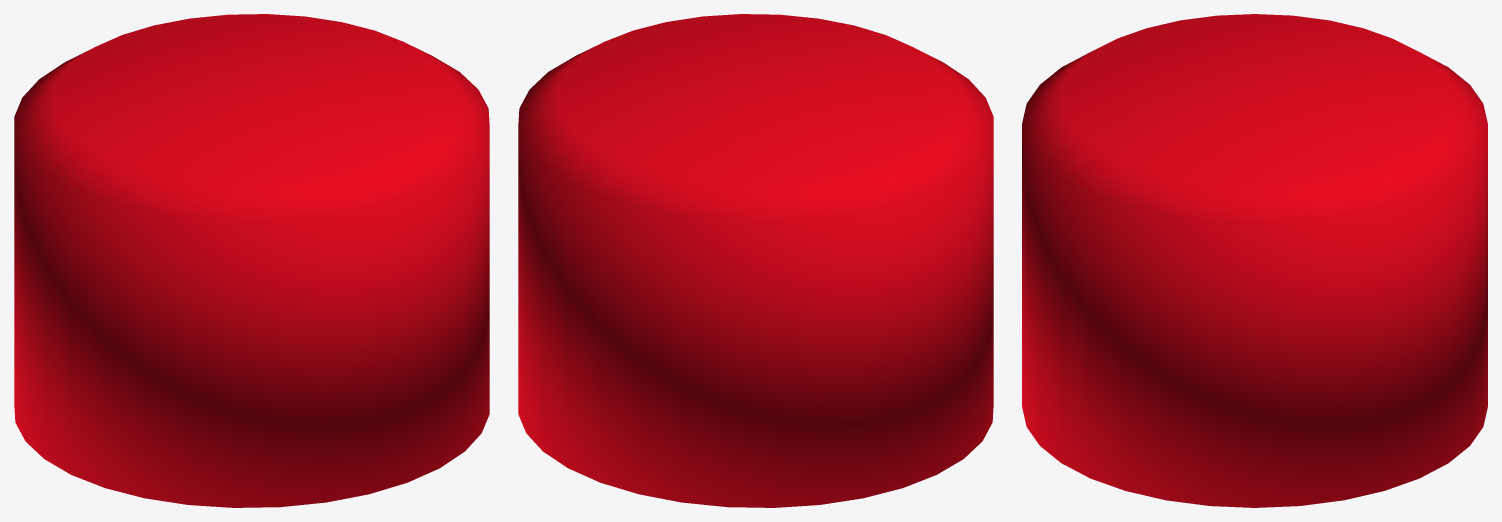
The model's file is roundedCylinder 2.fbx.
3 views of the same model, side by side, from view 1: azimuth 30°, elevation 25°; view 2: azimuth 150°, elevation 25°; view 3: azimuth 270°, elevation 25° (orthographic).
Visible parts, largest first — view 1: 실린더; view 2: 실린더; view 3: 실린더.
Part boxes in pixels (bbox=[...]): 실린더: bbox=[14, 14, 489, 507]; 실린더: bbox=[518, 14, 993, 507]; 실린더: bbox=[1022, 14, 1487, 507].
Bounding box in the file's own units: 451 × 323 × 441.
